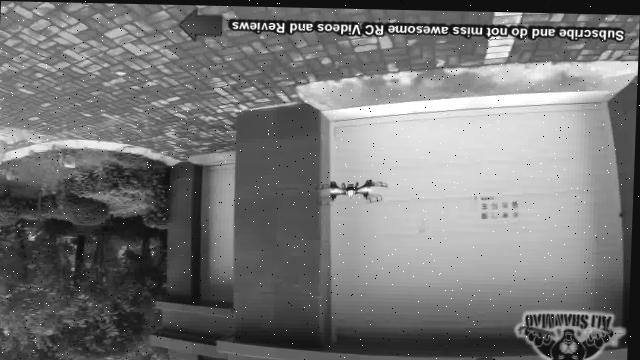drone: (321, 171, 394, 203)
